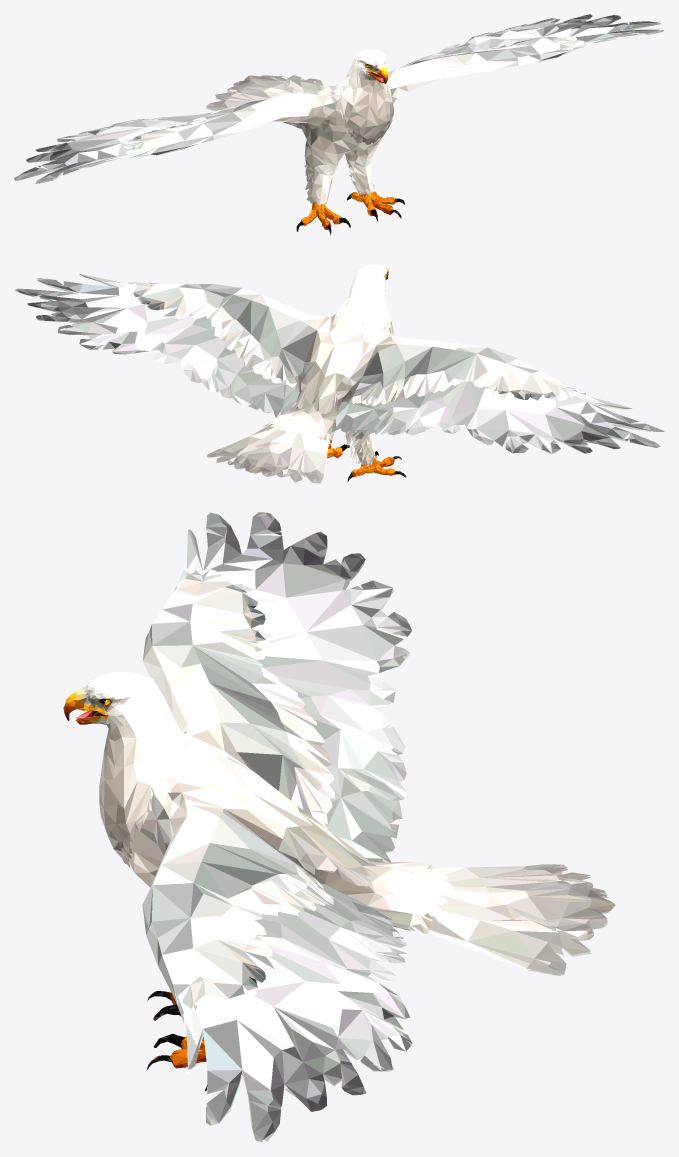
The model's file is low_polygon_art__white_eagle_bird.glb.
3 views of the same model, one above another, from view 1: azimuth 30°, elevation 25°; view 2: azimuth 150°, elevation 25°; view 3: azimuth 270°, elevation 25° (orthographic). The views are drawn at different scales.
Parts seen in each view (by area): view 1: Object_2; view 2: Object_2; view 3: Object_2.
Boxes of the visible parts, <box> form: Object_2: <box>14,14,664,235</box>; Object_2: <box>14,264,664,483</box>; Object_2: <box>63,512,615,1142</box>.
Size of the model in its own units: 52.69 by 14.25 by 19.5.
1 material, 1 textured.
